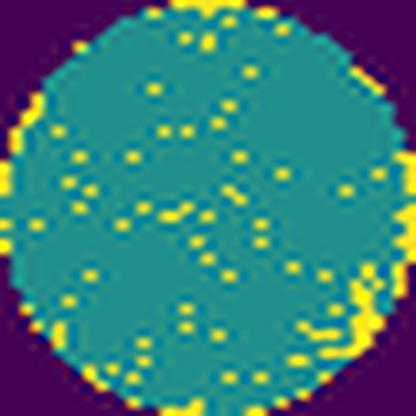Edge-Loc: (317, 256, 387, 365), (387, 202, 415, 308), (394, 144, 415, 195)
